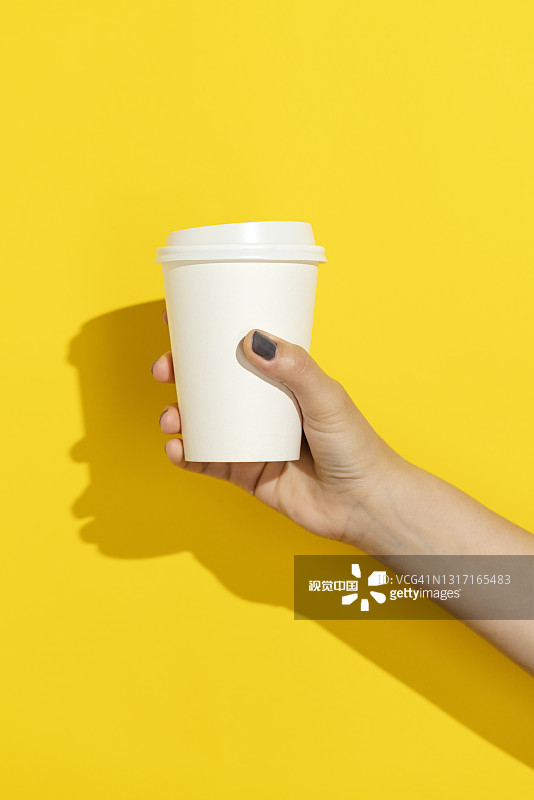no-phone: (116, 255, 397, 555)
